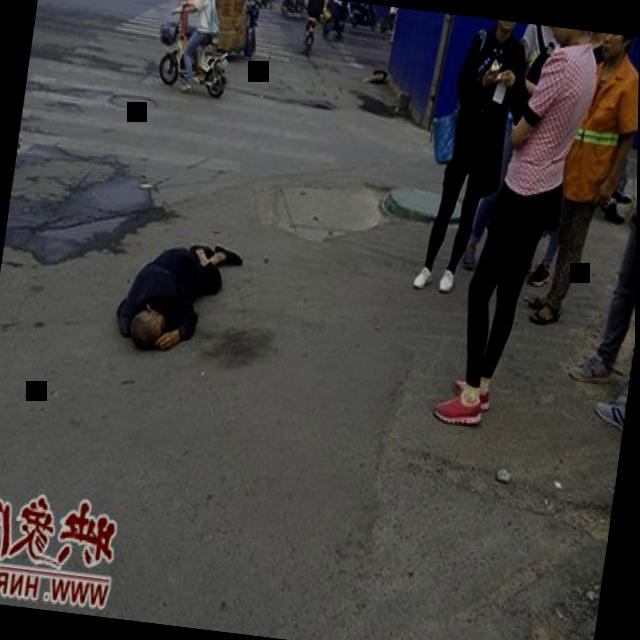Fall-Detected: (110, 215, 257, 365)
